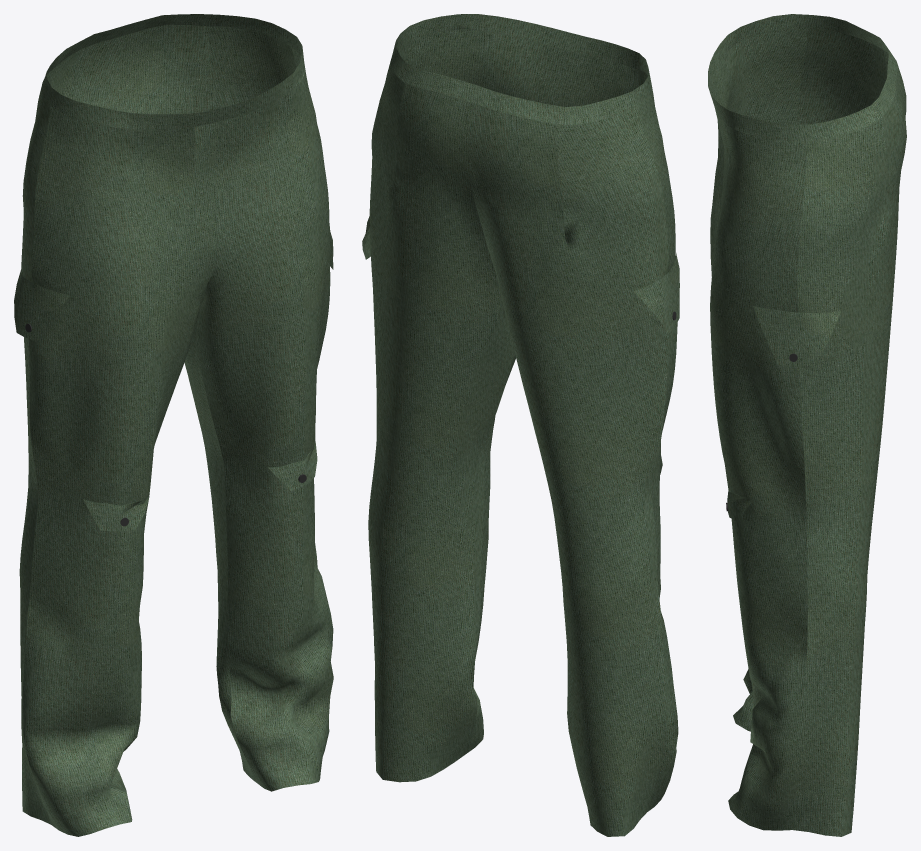
The model's file is pants.glb.
3 renders of one model, left to right at view 1: azimuth 30°, elevation 25°; view 2: azimuth 150°, elevation 25°; view 3: azimuth 270°, elevation 25°, orthographic. The views are drawn at different scales.
Parts seen in each view (by area): view 1: CAMO PANTS_FABRIC_5_FRONT_3752_0; view 2: CAMO PANTS_FABRIC_5_FRONT_3752_0; view 3: CAMO PANTS_FABRIC_5_FRONT_3752_0.
Boxes of the visible parts, <box> form: CAMO PANTS_FABRIC_5_FRONT_3752_0: <box>14,14,333,836</box>; CAMO PANTS_FABRIC_5_FRONT_3752_0: <box>362,14,679,836</box>; CAMO PANTS_FABRIC_5_FRONT_3752_0: <box>708,14,906,836</box>.
Size of the model in its own units: 0.7663 by 1.79 by 0.45.
Materials: 2 (1 with a texture image).
